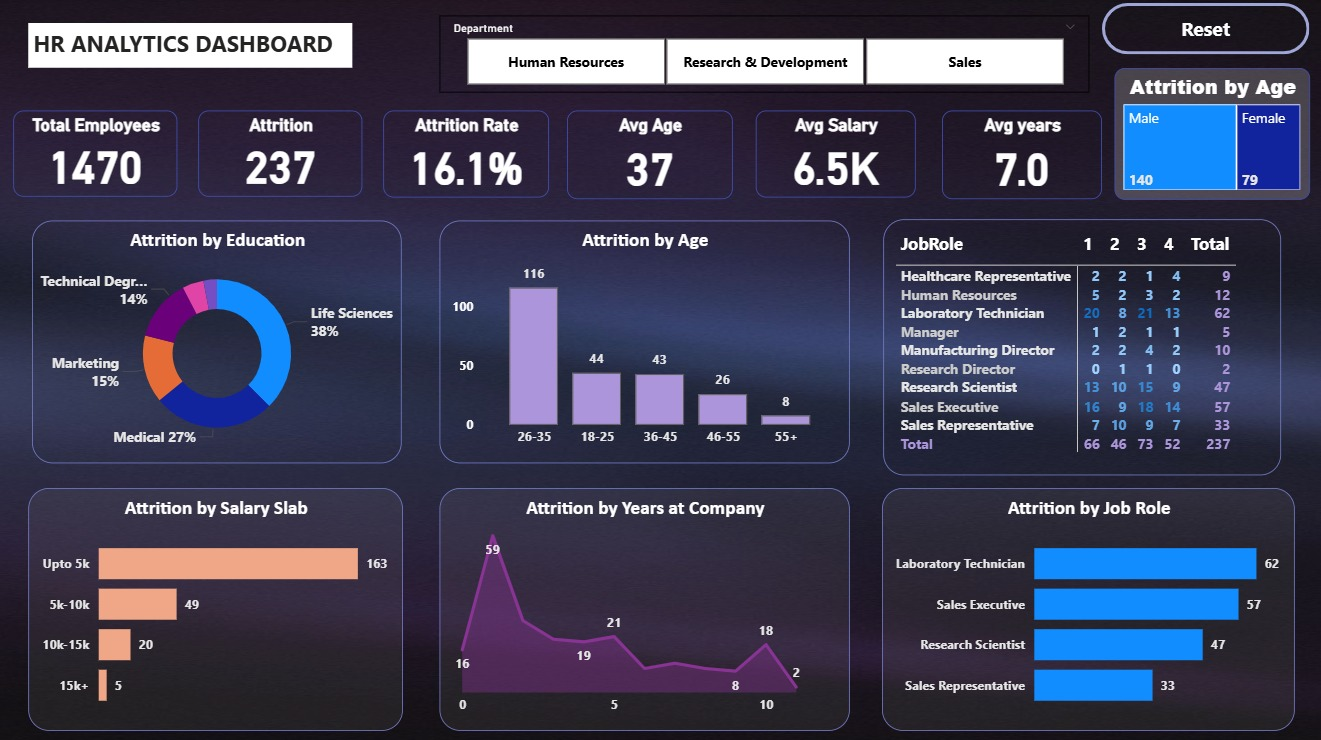

The page's visual inventory and layout, read from the dashboard file:
{"tool":"powerbi","page":{"name":"Page 1","canvas":[1280,720],"ordinal":0},"visuals":[{"type":"card","title":"Total Employees","fields":{"Values":["CountNonNull(HR_Analytics.EmpID)"]},"box":[16.1,108.7,158.6,82.9],"z":0},{"type":"card","title":"Attrition","fields":{"Values":["Sum(HR_Analytics.AttritionCount)"]},"box":[194.6,108.7,158.6,82.9],"z":1000},{"type":"card","title":"Attrition Rate","fields":{"Values":["HR_Analytics.AttritionRate"]},"box":[373.2,108.7,160,84.3],"z":2000},{"type":"card","title":"Avg Age","fields":{"Values":["Avg(HR_Analytics.Age)"]},"box":[550.3,108.7,160,85.7],"z":3000},{"type":"card","title":"Avg Salary","fields":{"Values":["Avg(HR_Analytics.MonthlyIncome)"]},"box":[731.8,108.7,154.3,84.3],"z":4000},{"type":"card","title":"Avg years","fields":{"Values":["Avg(HR_Analytics.YearsAtCompany)"]},"box":[911.8,108.7,154.3,85.7],"z":5000},{"type":"donutChart","title":"Attrition by Education","fields":{"Category":["HR_Analytics.EducationField"],"Y":["Sum(HR_Analytics.AttritionCount)"]},"box":[34.3,214.3,357.1,234.3],"z":6000},{"type":"columnChart","title":"Attrition by Age","fields":{"Category":["HR_Analytics.AgeGroup"],"Y":["Sum(HR_Analytics.AttritionCount)"]},"box":[427.1,214.3,395.7,234.3],"z":7000},{"type":"pivotTable","fields":{"Rows":["HR_Analytics.JobRole"],"Columns":["HR_Analytics.JobSatisfaction"],"Values":["Sum(HR_Analytics.AttritionCount)"]},"box":[854.9,214.1,384.2,247],"z":8000},{"type":"barChart","title":"Attrition by Salary Slab","fields":{"Category":["HR_Analytics.SalarySlab"],"Y":["Sum(HR_Analytics.AttritionCount)"]},"box":[30,472.9,361.4,234.3],"z":9000},{"type":"barChart","title":"Attrition by Job Role","fields":{"Category":["HR_Analytics.JobRole"],"Y":["Sum(HR_Analytics.AttritionCount)"]},"box":[854.3,472.9,398.6,234.3],"z":10000},{"type":"areaChart","title":"Attrition by Years at Company","fields":{"Category":["HR_Analytics.YearsAtCompany"],"Y":["Sum(HR_Analytics.AttritionCount)"]},"box":[427.1,472.9,395.7,234.3],"z":11000},{"type":"treemap","title":"Attrition by Age","fields":{"Group":["HR_Analytics.Gender"],"Values":["Sum(HR_Analytics.AttritionCount)"]},"box":[1078.6,67.1,188.6,127.1],"z":12000},{"type":"slicer","fields":{"Values":["HR_Analytics.Department"]},"box":[427.1,17.1,627.1,74.3],"z":13000},{"type":"textbox","box":[30,24.3,312.9,42.9],"z":14000}]}

Visuals, with their boxes in screenshot pixels (x1, y1, x2, y2), scaled from the page's 1280x720 canvas onto the 1321x740 screenshot:
"Total Employees" card: bbox=[17, 112, 180, 197]
"Attrition" card: bbox=[201, 112, 365, 197]
"Attrition Rate" card: bbox=[385, 112, 550, 198]
"Avg Age" card: bbox=[568, 112, 733, 200]
"Avg Salary" card: bbox=[755, 112, 914, 198]
"Avg years" card: bbox=[941, 112, 1100, 200]
"Attrition by Education" donutChart: bbox=[35, 220, 404, 461]
"Attrition by Age" columnChart: bbox=[441, 220, 849, 461]
pivotTable - HR_Analytics.JobRole x HR_Analytics.JobSatisfaction: bbox=[882, 220, 1279, 474]
"Attrition by Salary Slab" barChart: bbox=[31, 486, 404, 727]
"Attrition by Job Role" barChart: bbox=[882, 486, 1293, 727]
"Attrition by Years at Company" areaChart: bbox=[441, 486, 849, 727]
"Attrition by Age" treemap: bbox=[1113, 69, 1308, 200]
slicer - HR_Analytics.Department: bbox=[441, 18, 1088, 94]
textbox: bbox=[31, 25, 354, 69]
